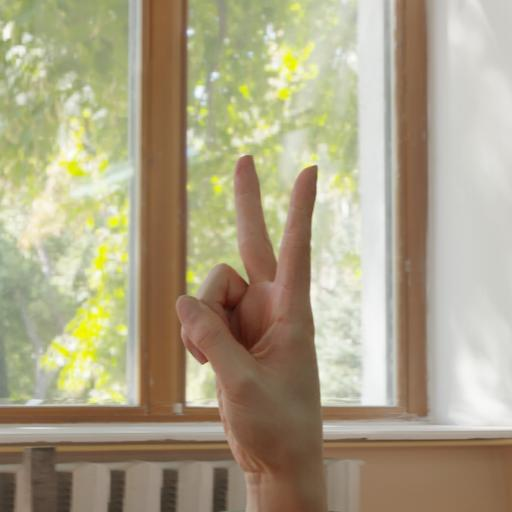V: (161, 141, 370, 512)
